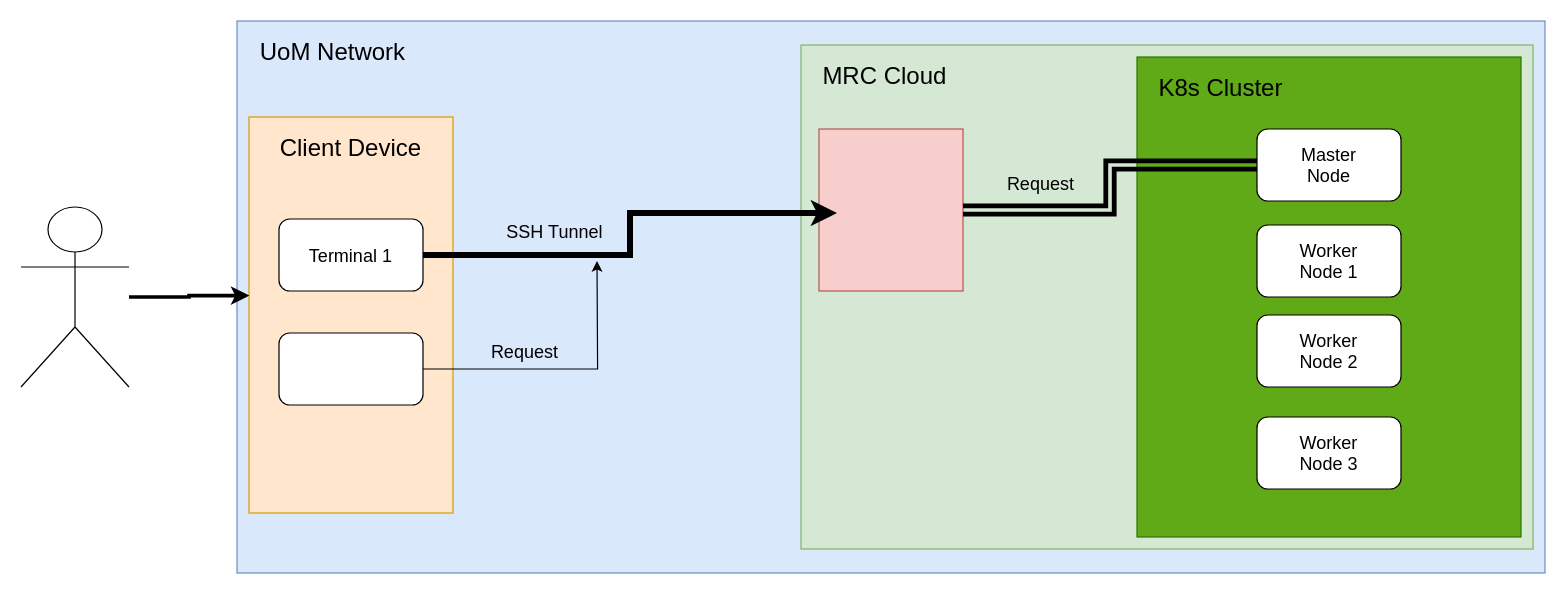
Image size: 1566x594. Some labels were removed from this diagram. The centre of each missing label's shape, as x and y in pixels:
"Actor" belongs at [74,296].
"Bation Node" belongs at [890,209].
"Terminal 2" belongs at [350,368].
